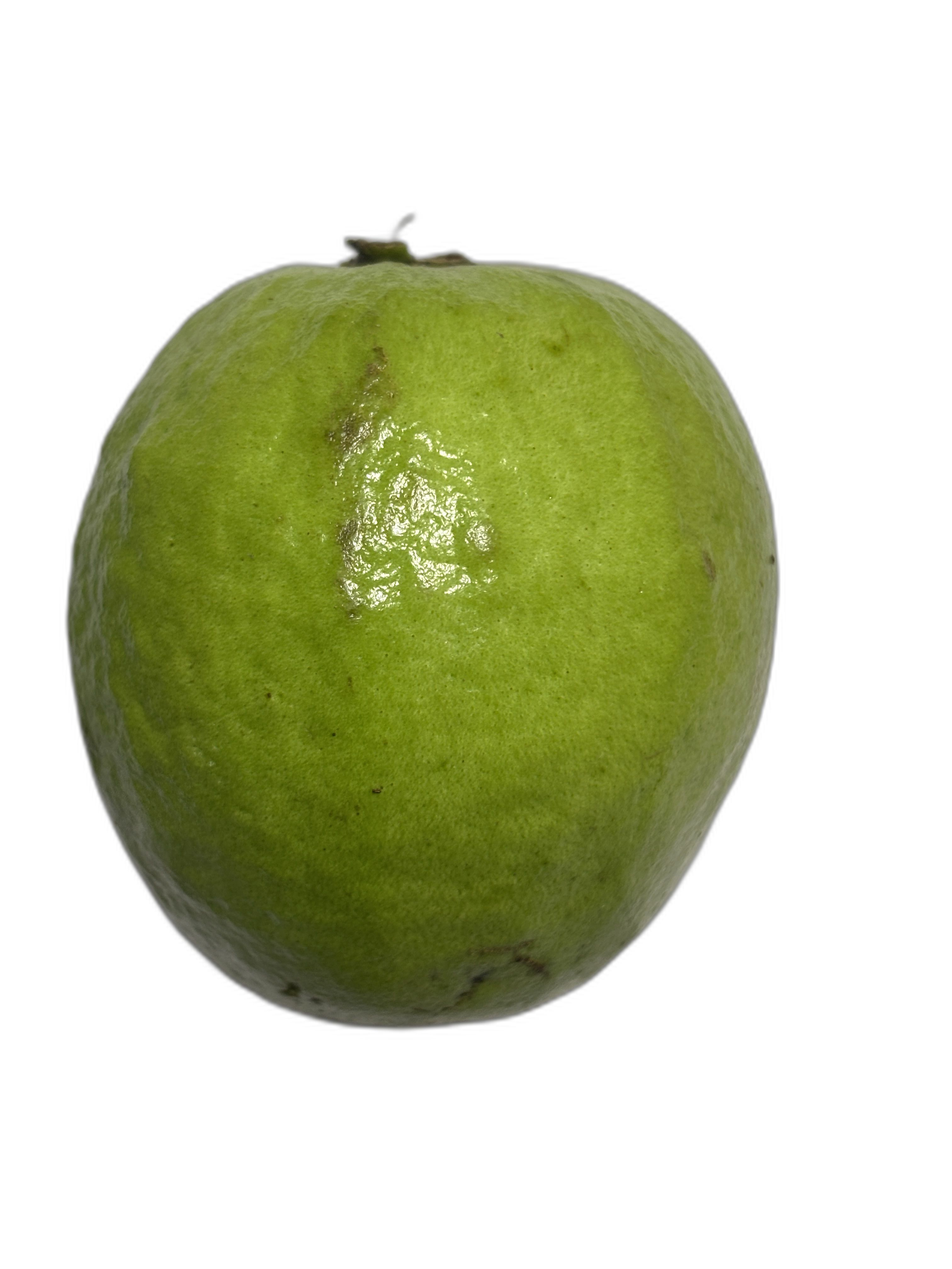guava: (191, 295, 805, 1151)
